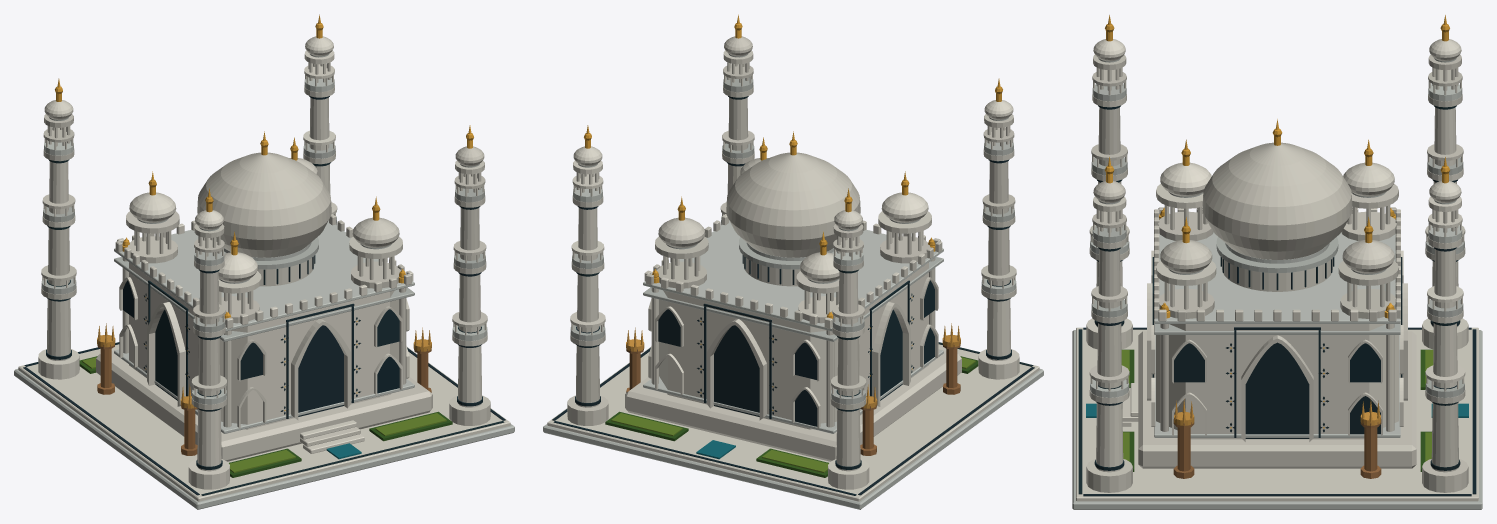
3 views of the same model, side by side, from view 1: azimuth 30°, elevation 25°; view 2: azimuth 150°, elevation 25°; view 3: azimuth 270°, elevation 25° (orthographic). The views are drawn at different scales.
Visible parts, largest first — view 1: fort_L2_0, fort_L2_1; view 2: fort_L2_0, fort_L2_1; view 3: fort_L2_0, fort_L2_1.
Part boxes in pixels (x1,y1,x2,y2): fort_L2_0: [14, 23, 514, 509]; fort_L2_1: [56, 14, 472, 410]; fort_L2_0: [543, 23, 1043, 509]; fort_L2_1: [585, 14, 1001, 410]; fort_L2_0: [1072, 24, 1482, 509]; fort_L2_1: [1106, 15, 1448, 428].
Bounding box in the file's own units: 7.6 × 6.93 × 7.6.
